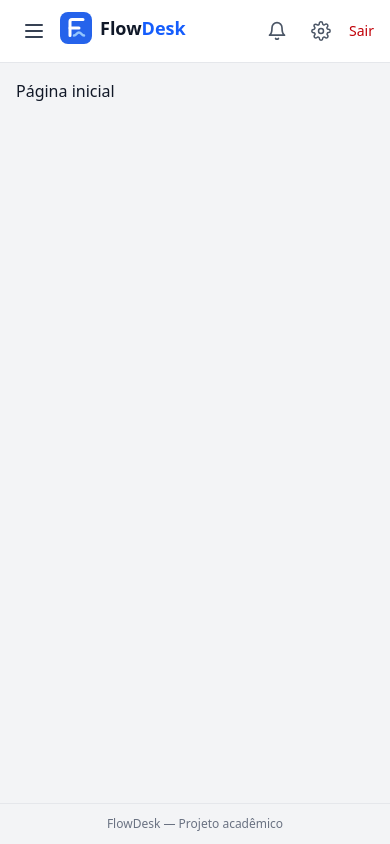
Test: AppLayout: menu no celular › escolher uma tela navega e fecha a gaveta
Click the button named "Abrir menu". click: x=34, y=31
box: left=16, top=13, right=52, bottom=49
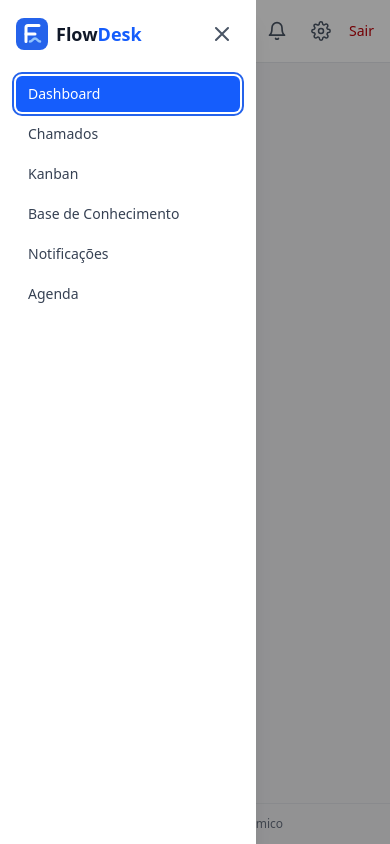
Click the link "Chamados". click: x=63, y=134
box: left=28, top=124, right=98, bottom=143
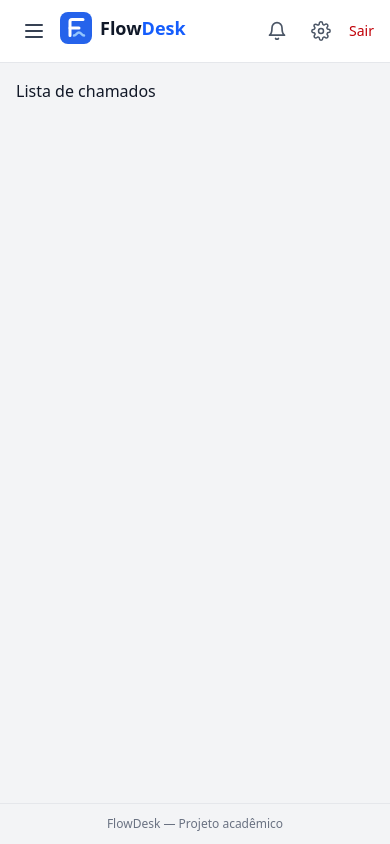
Expected: the text "Lista de chamados" is shown, left=16, top=80, right=156, bottom=102
